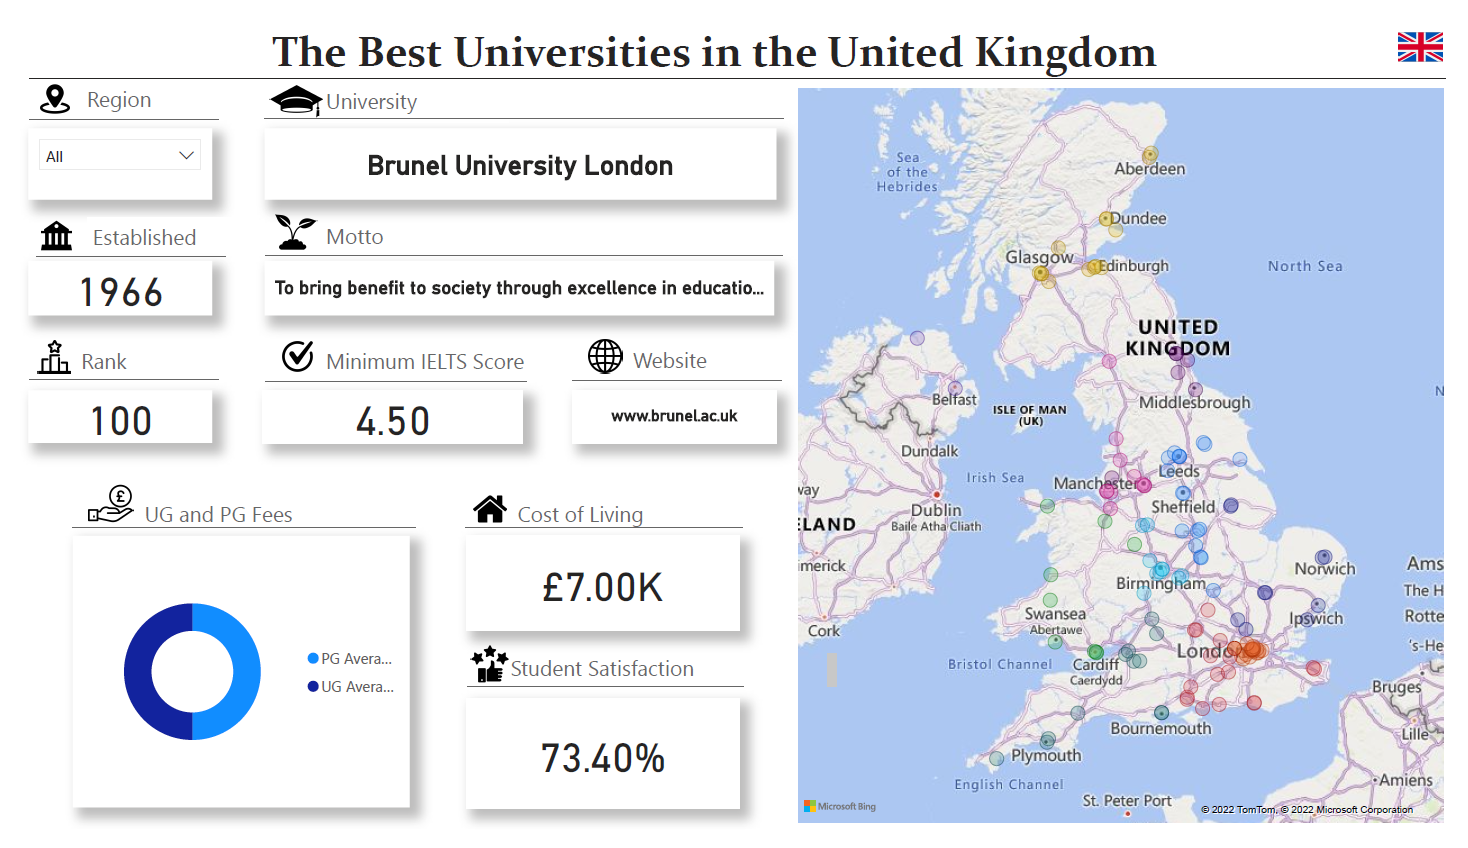

This screenshot's page, from the dashboard's own definition file:
{"tool":"powerbi","page":{"name":"Page 1","canvas":[1280,720],"ordinal":0},"visuals":[{"type":"textbox","box":[0,0,1239.7,60.3],"z":0},{"type":"slicer","fields":{"Values":["uk_universities.Region"]},"box":[8.5,96.5,163.7,63.7],"z":1000},{"type":"map","fields":{"Y":["uk_universities.Latitude"],"X":["uk_universities.Longitude"],"Series":["uk_universities.Region"]},"box":[689.5,56.2,584,663],"z":2000},{"type":"card","fields":{"Values":["Min(uk_universities.Motto)"]},"box":[219.3,214.5,454.2,49.4],"z":3000},{"type":"card","fields":{"Values":["Min(uk_universities.University_name)"]},"box":[218.6,96.5,455.8,64],"z":4000},{"type":"textbox","box":[268.7,54.2,167.5,37.3],"z":5000},{"type":"basicShape","box":[209,73.2,481.6,29.1],"z":6000},{"type":"textbox","box":[61.4,175.9,142.2,36.1],"z":7000},{"type":"basicShape","box":[6,190.4,188,41],"z":8000},{"type":"card","fields":{"Values":["Min(uk_universities.Founded_year)"]},"box":[8.5,214.4,163.7,49.3],"z":9000},{"type":"textbox","box":[268.7,174.7,263.9,42.2],"z":10000},{"type":"basicShape","box":[209.6,188,479.5,43.4],"z":11000},{"type":"basicShape","box":[0,32.1,1279.5,39.7],"z":12000},{"type":"basicShape","box":[0,300.5,188.1,40.3],"z":13000},{"type":"textbox","box":[51.8,285.5,142.2,37.3],"z":14000},{"type":"basicShape","box":[0,67.7,188.1,40.8],"z":15000},{"type":"textbox","box":[56.6,53,162.7,36.1],"z":16000},{"type":"basicShape","box":[210.8,301.3,251.9,40.8],"z":17000},{"type":"card","fields":{"Values":["Min(uk_universities.UK_rank)"]},"box":[8.5,328.9,163.7,46.8],"z":18000},{"type":"image","box":[227.7,278.3,41,43.4],"z":19000},{"type":"textbox","box":[268.7,285.5,239.8,45.8],"z":21000},{"type":"card","fields":{"Values":["Min(uk_universities.Minimum_IELTS_score)"]},"box":[218.1,328.9,231.3,47],"z":22000},{"type":"card","fields":{"Values":["Min(uk_universities.Website)"]},"box":[493.4,328.9,181,46.9],"z":23000},{"type":"image","box":[502.2,278.6,39.7,41.9],"z":24000},{"type":"textbox","box":[542.2,284.3,119.3,36.1],"z":25000},{"type":"basicShape","box":[483.2,301.2,206.1,39.8],"z":26000},{"type":"card","fields":{"Values":["Avg(uk_universities.Estimated_cost_of_living_per_year_(in_pounds))"]},"box":[398.8,459,243.4,84.3],"z":27000},{"type":"image","box":[57.7,402.6,50,55.1],"z":28000},{"type":"textbox","box":[107.1,421.4,300,47.6],"z":29000},{"type":"basicShape","box":[38.2,430.7,324.9,40.9],"z":30000},{"type":"basicShape","box":[388.7,431.2,266.4,40.8],"z":31000},{"type":"image","box":[400,414.1,39.7,41],"z":32000},{"type":"textbox","box":[440.1,421.6,300,34.6],"z":33000},{"type":"basicShape","box":[389.2,573.5,266.3,41],"z":34000},{"type":"textbox","box":[433.7,559,300,44.6],"z":35000},{"type":"card","fields":{"Values":["Avg(uk_universities.Student_satisfaction)"]},"box":[398.8,603.6,243.4,97.6],"z":36000},{"type":"image","box":[1218.1,0,61.4,49.4],"z":37000},{"type":"image","box":[219.3,42.2,56.6,60.2],"z":38000},{"type":"image","box":[14.5,53,37.3,36.1],"z":39000},{"type":"image","box":[13.3,173.5,43.4,37.3],"z":40000},{"type":"image","box":[13.3,278.3,38.6,43.4],"z":41000},{"type":"image","box":[224.1,156.6,47,63.9],"z":42000},{"type":"image","box":[396.4,551.8,47,43.4],"z":43000},{"type":"donutChart","fields":{"Y":["Avg(uk_universities.PG_average_fees_(in_pounds))","Avg(uk_universities.UG_average_fees_(in_pounds))"]},"box":[48.7,459,300,242.3],"z":43001}]}

Visuals, with their boxes in screenshot pixels (x1, y1, x2, y2), scaled from the page's 1280x720 canvas onto the 1468x848 screenshot:
textbox: {"x1": 0, "y1": 0, "x2": 1422, "y2": 71}
slicer - uk_universities.Region: {"x1": 10, "y1": 114, "x2": 197, "y2": 189}
map - uk_universities.Latitude x uk_universities.Longitude: {"x1": 791, "y1": 66, "x2": 1461, "y2": 847}
card - Min(uk_universities.Motto): {"x1": 252, "y1": 253, "x2": 772, "y2": 311}
card - Min(uk_universities.University_name): {"x1": 251, "y1": 114, "x2": 773, "y2": 189}
textbox: {"x1": 308, "y1": 64, "x2": 500, "y2": 108}
basicShape: {"x1": 240, "y1": 86, "x2": 792, "y2": 120}
textbox: {"x1": 70, "y1": 207, "x2": 234, "y2": 250}
basicShape: {"x1": 7, "y1": 224, "x2": 222, "y2": 273}
card - Min(uk_universities.Founded_year): {"x1": 10, "y1": 253, "x2": 197, "y2": 311}
textbox: {"x1": 308, "y1": 206, "x2": 611, "y2": 255}
basicShape: {"x1": 240, "y1": 221, "x2": 790, "y2": 273}
basicShape: {"x1": 0, "y1": 38, "x2": 1467, "y2": 85}
basicShape: {"x1": 0, "y1": 354, "x2": 216, "y2": 401}
textbox: {"x1": 59, "y1": 336, "x2": 222, "y2": 380}
basicShape: {"x1": 0, "y1": 80, "x2": 216, "y2": 128}
textbox: {"x1": 65, "y1": 62, "x2": 252, "y2": 105}
basicShape: {"x1": 242, "y1": 355, "x2": 531, "y2": 403}
card - Min(uk_universities.UK_rank): {"x1": 10, "y1": 387, "x2": 197, "y2": 442}
image: {"x1": 261, "y1": 328, "x2": 308, "y2": 379}
textbox: {"x1": 308, "y1": 336, "x2": 583, "y2": 390}
card - Min(uk_universities.Minimum_IELTS_score): {"x1": 250, "y1": 387, "x2": 515, "y2": 443}
card - Min(uk_universities.Website): {"x1": 566, "y1": 387, "x2": 773, "y2": 443}
image: {"x1": 576, "y1": 328, "x2": 621, "y2": 377}
textbox: {"x1": 622, "y1": 335, "x2": 759, "y2": 377}
basicShape: {"x1": 554, "y1": 355, "x2": 791, "y2": 402}
card - Avg(uk_universities.Estimated_cost_of_living_per_year_(in_pounds)): {"x1": 457, "y1": 541, "x2": 737, "y2": 640}
image: {"x1": 66, "y1": 474, "x2": 124, "y2": 539}
textbox: {"x1": 123, "y1": 496, "x2": 467, "y2": 552}
basicShape: {"x1": 44, "y1": 507, "x2": 416, "y2": 555}
basicShape: {"x1": 446, "y1": 508, "x2": 751, "y2": 556}
image: {"x1": 459, "y1": 488, "x2": 504, "y2": 536}
textbox: {"x1": 505, "y1": 497, "x2": 849, "y2": 537}
basicShape: {"x1": 446, "y1": 675, "x2": 752, "y2": 724}
textbox: {"x1": 497, "y1": 658, "x2": 841, "y2": 711}
card - Avg(uk_universities.Student_satisfaction): {"x1": 457, "y1": 711, "x2": 737, "y2": 826}
image: {"x1": 1397, "y1": 0, "x2": 1467, "y2": 58}
image: {"x1": 252, "y1": 50, "x2": 316, "y2": 121}
image: {"x1": 17, "y1": 62, "x2": 59, "y2": 105}
image: {"x1": 15, "y1": 204, "x2": 65, "y2": 248}
image: {"x1": 15, "y1": 328, "x2": 60, "y2": 379}
image: {"x1": 257, "y1": 184, "x2": 311, "y2": 260}
image: {"x1": 455, "y1": 650, "x2": 509, "y2": 701}
donutChart - Avg(uk_universities.PG_average_fees_(in_pounds)) x Avg(uk_universities.UG_average_fees_(in_pounds)): {"x1": 56, "y1": 541, "x2": 400, "y2": 826}
